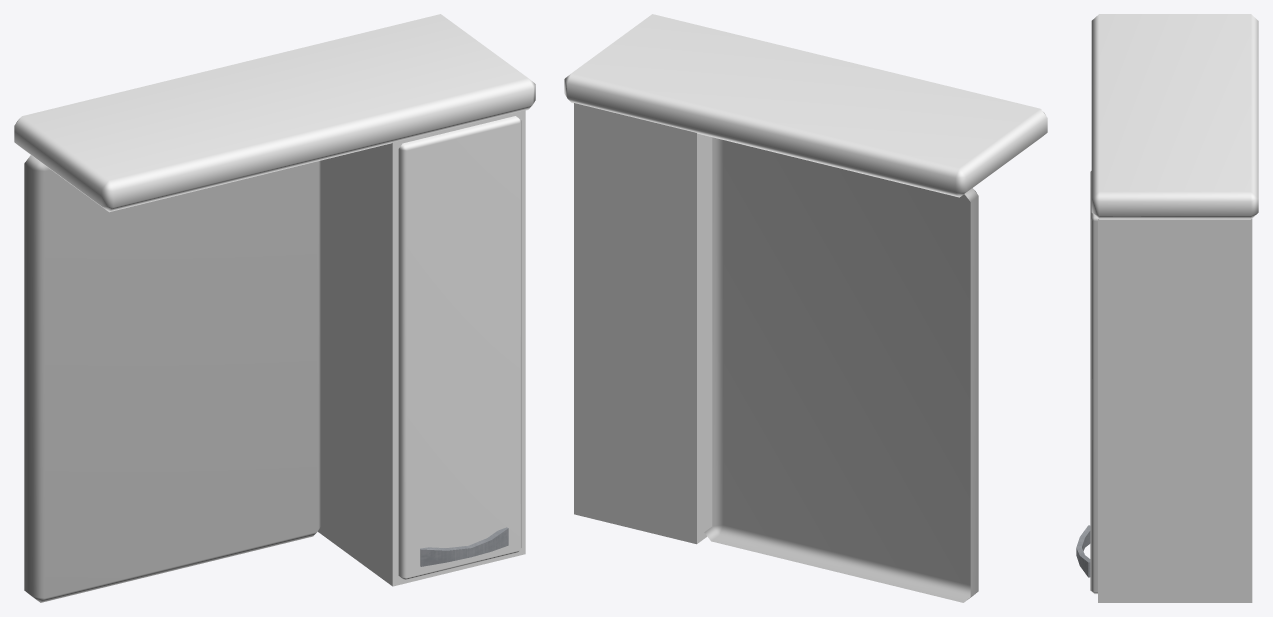
File: bathroom_019.fbx
The picture shows the model from 3 angles, left to right: view 1: azimuth 30°, elevation 25°; view 2: azimuth 150°, elevation 25°; view 3: azimuth 270°, elevation 25°; orthographic projection. The views are drawn at different scales.
Parts seen in each view (by area): view 1: bathroom_019; view 2: bathroom_019; view 3: bathroom_019.
Boxes of the visible parts, box(x1,y1,x2,y2) form: bathroom_019: box(14, 14, 535, 602); bathroom_019: box(564, 14, 1047, 602); bathroom_019: box(1076, 14, 1258, 602).
Bounding box in the file's own units: 98.25 × 41.12 × 103.
